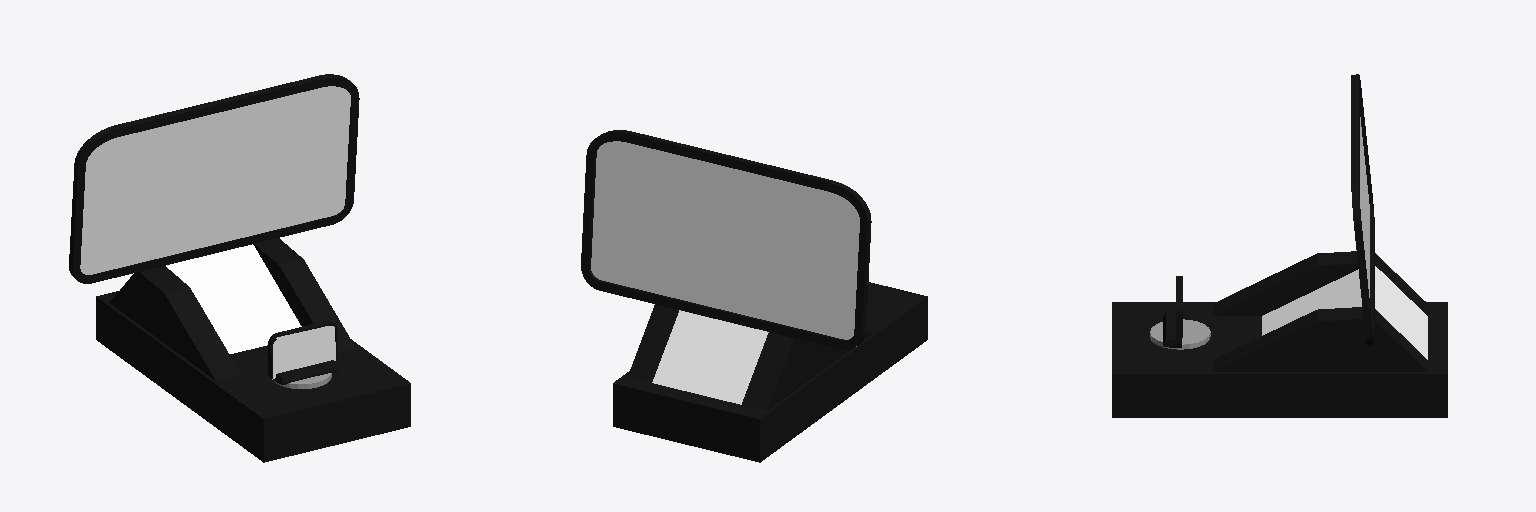
File: RedDot.obj
3 renders of one model, left to right at view 1: azimuth 30°, elevation 25°; view 2: azimuth 150°, elevation 25°; view 3: azimuth 270°, elevation 25°, orthographic.
Visible parts, largest first — view 1: RedDot; view 2: RedDot; view 3: RedDot.
Part boxes in pixels (bbox=[...]): RedDot: bbox=[69, 74, 410, 462]; RedDot: bbox=[581, 130, 927, 462]; RedDot: bbox=[1112, 74, 1447, 417].
Size of the model in its own units: 0.064 by 0.055 by 0.0661.